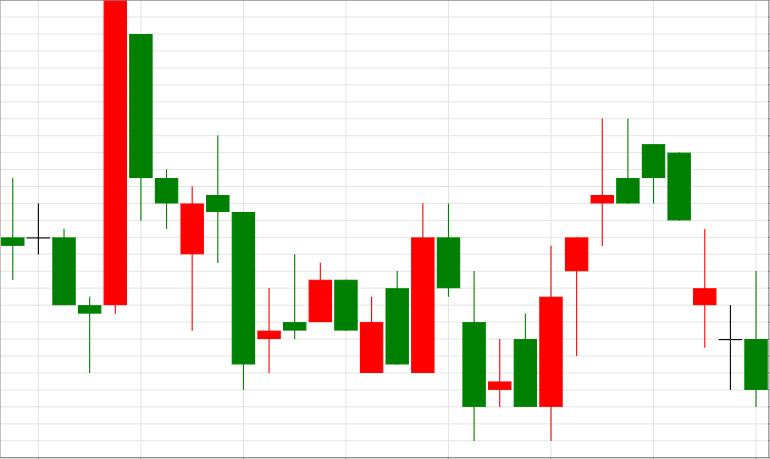bullish_engulfing_rise: (437, 202, 562, 441)
morning_star_rise: (0, 0, 128, 374)
